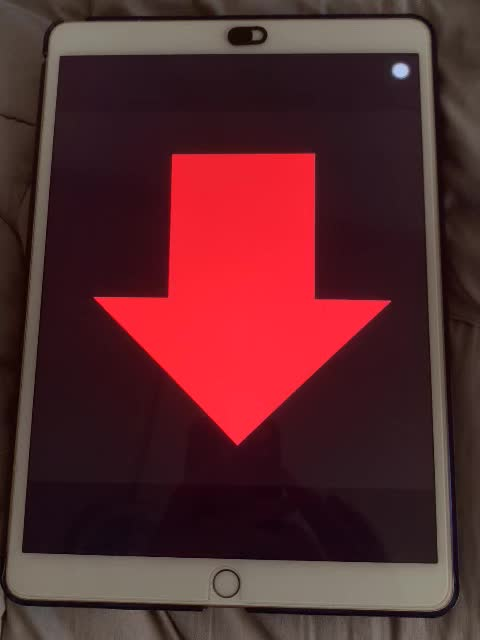down: (89, 147, 393, 447)
